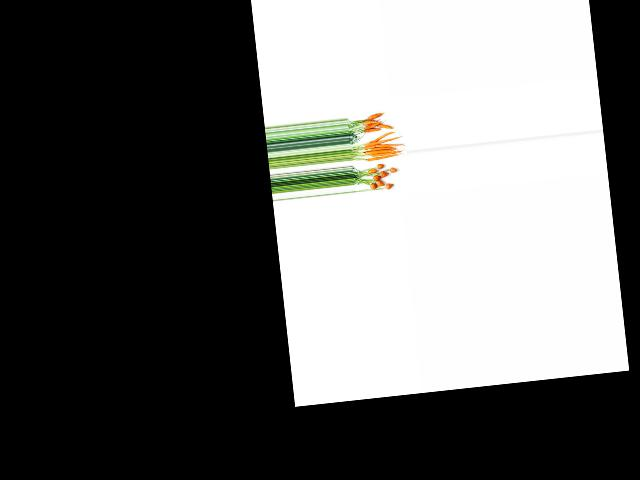carrot: (385, 180, 395, 189)
